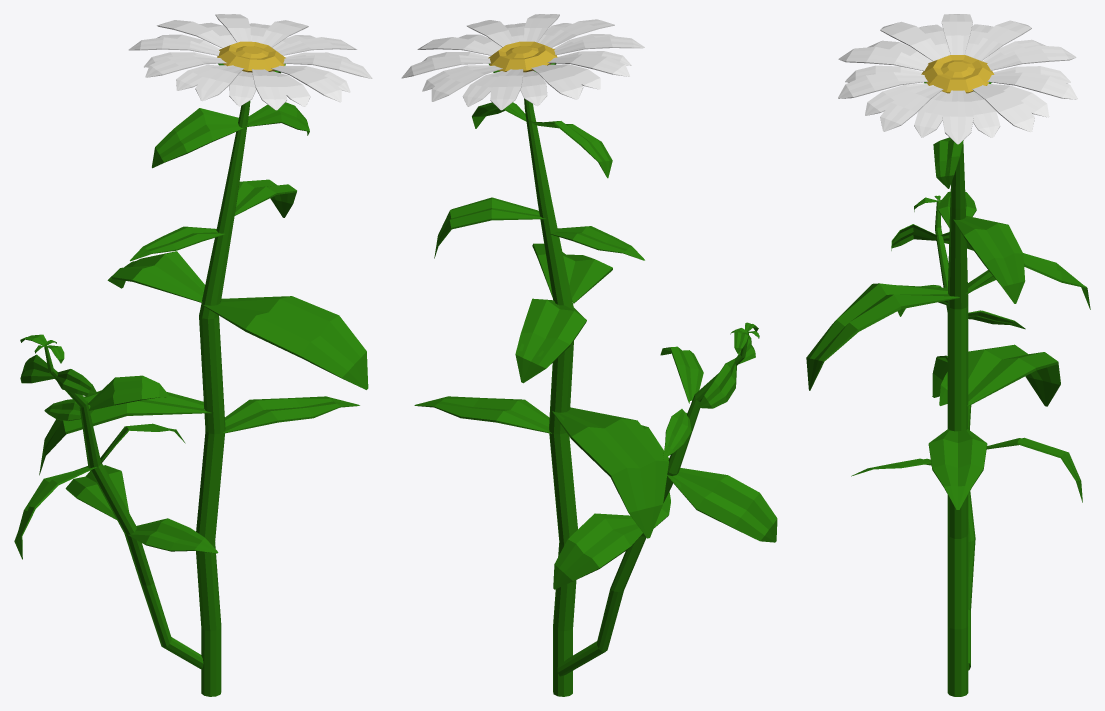
File: herb.fbx
3 views of the same model, side by side, from view 1: azimuth 30°, elevation 25°; view 2: azimuth 150°, elevation 25°; view 3: azimuth 270°, elevation 25° (orthographic). The views are drawn at different scales.
Visible parts, largest first — view 1: Cube, Cube.003, Circle, Cube.001, Circle.001, Circle.002; view 2: Cube, Cube.003, Cube.001, Circle, Circle.001, Circle.002; view 3: Cube.003, Cube, Circle, Cube.001, Circle.002, Circle.001.
Boxes of the visible parts, x1=… form: Cube: x1=39, y1=102, x2=368, y2=475; Cube.003: x1=128, y1=14, x2=372, y2=110; Circle: x1=196, y1=101, x2=250, y2=696; Cube.001: x1=14, y1=334, x2=218, y2=559; Circle.001: x1=44, y1=345, x2=203, y2=669; Circle.002: x1=217, y1=41, x2=285, y2=72; Cube: x1=414, y1=102, x2=668, y2=538; Cube.003: x1=401, y1=14, x2=644, y2=110; Cube.001: x1=553, y1=322, x2=777, y2=589; Circle: x1=524, y1=98, x2=577, y2=696; Circle.001: x1=557, y1=331, x2=748, y2=676; Circle.002: x1=488, y1=41, x2=557, y2=72; Cube.003: x1=838, y1=14, x2=1077, y2=144; Cube: x1=806, y1=137, x2=1090, y2=509; Circle: x1=947, y1=143, x2=968, y2=696; Cube.001: x1=851, y1=195, x2=1082, y2=502; Circle.002: x1=921, y1=55, x2=994, y2=93; Circle.001: x1=935, y1=200, x2=975, y2=670.
Bounding box in the file's own units: 207 × 361 × 143.
